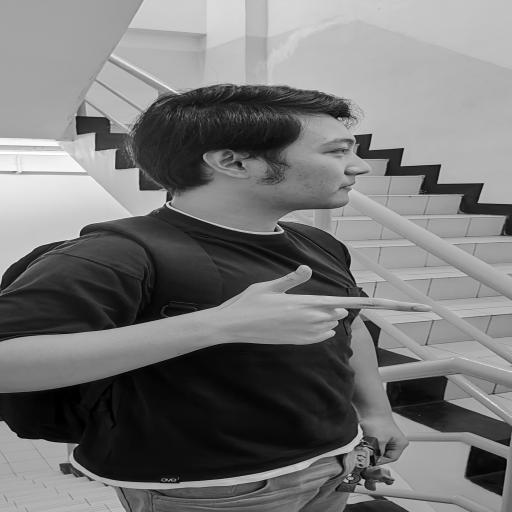next: (207, 254, 449, 359)
